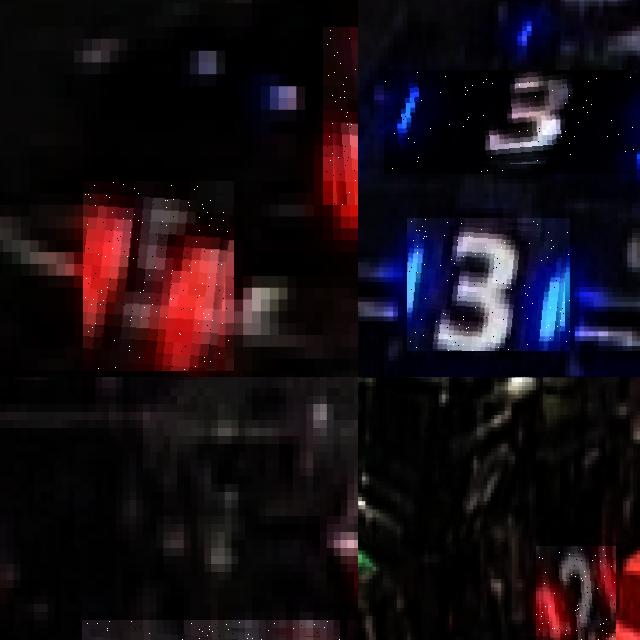B3: (383, 70, 640, 173), (407, 218, 570, 351)
R2: (536, 546, 616, 640)
R5: (83, 181, 234, 371)
